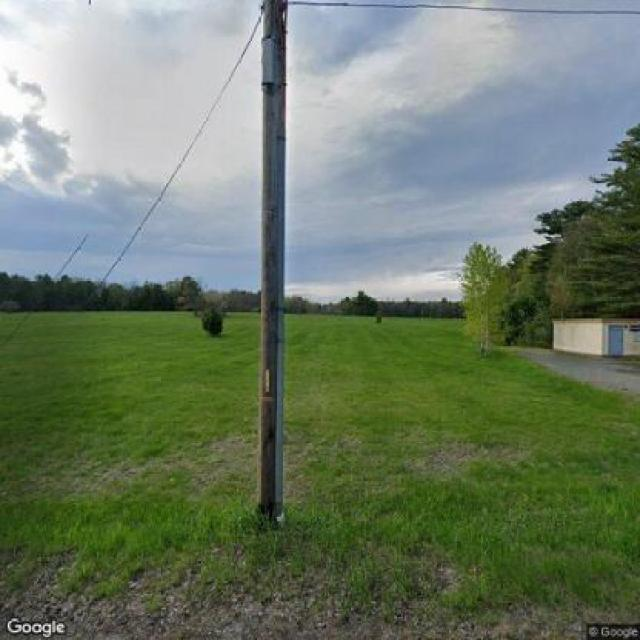pole: (246, 0, 326, 514)
